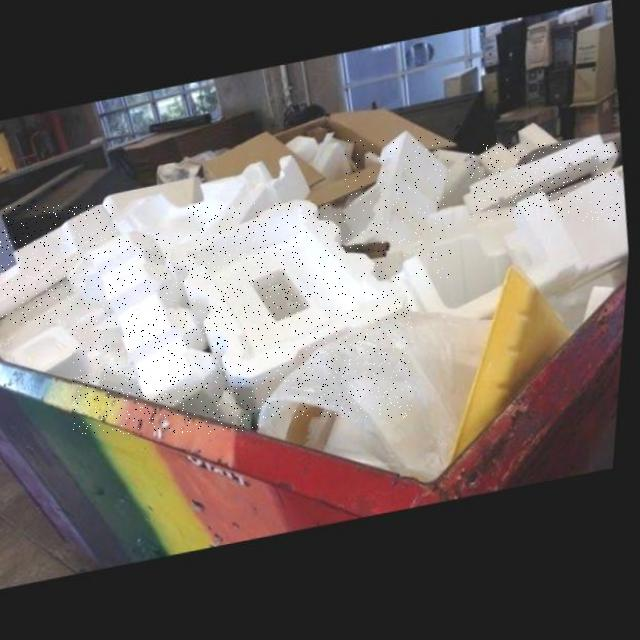styrofoam: (187, 203, 412, 418), (72, 234, 258, 434), (346, 136, 451, 287), (0, 206, 116, 324), (467, 143, 621, 221)
